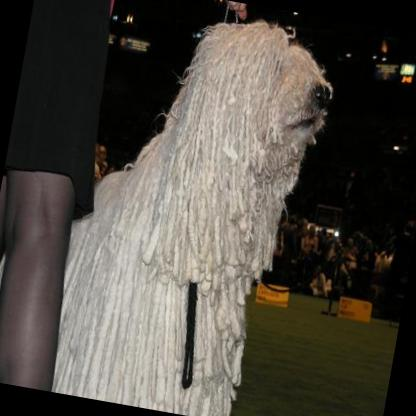komondor: (0, 0, 345, 416)
